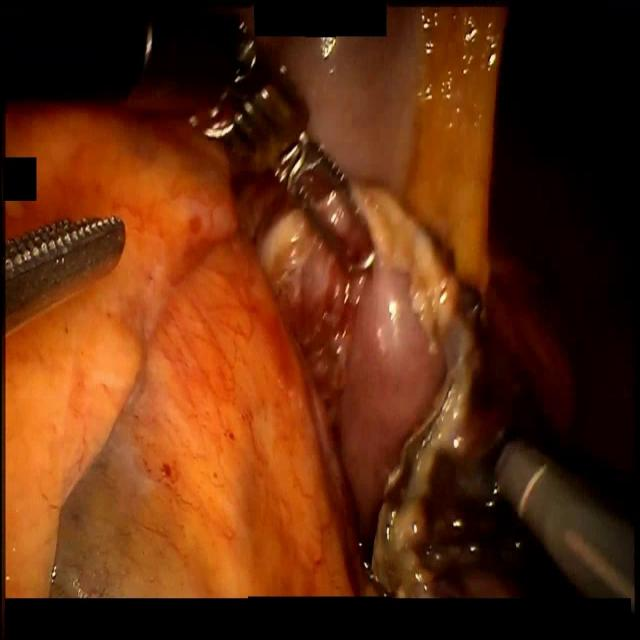surgical-area: (2, 4, 640, 597)
surgical-tool: (490, 431, 636, 595), (4, 212, 126, 334)
